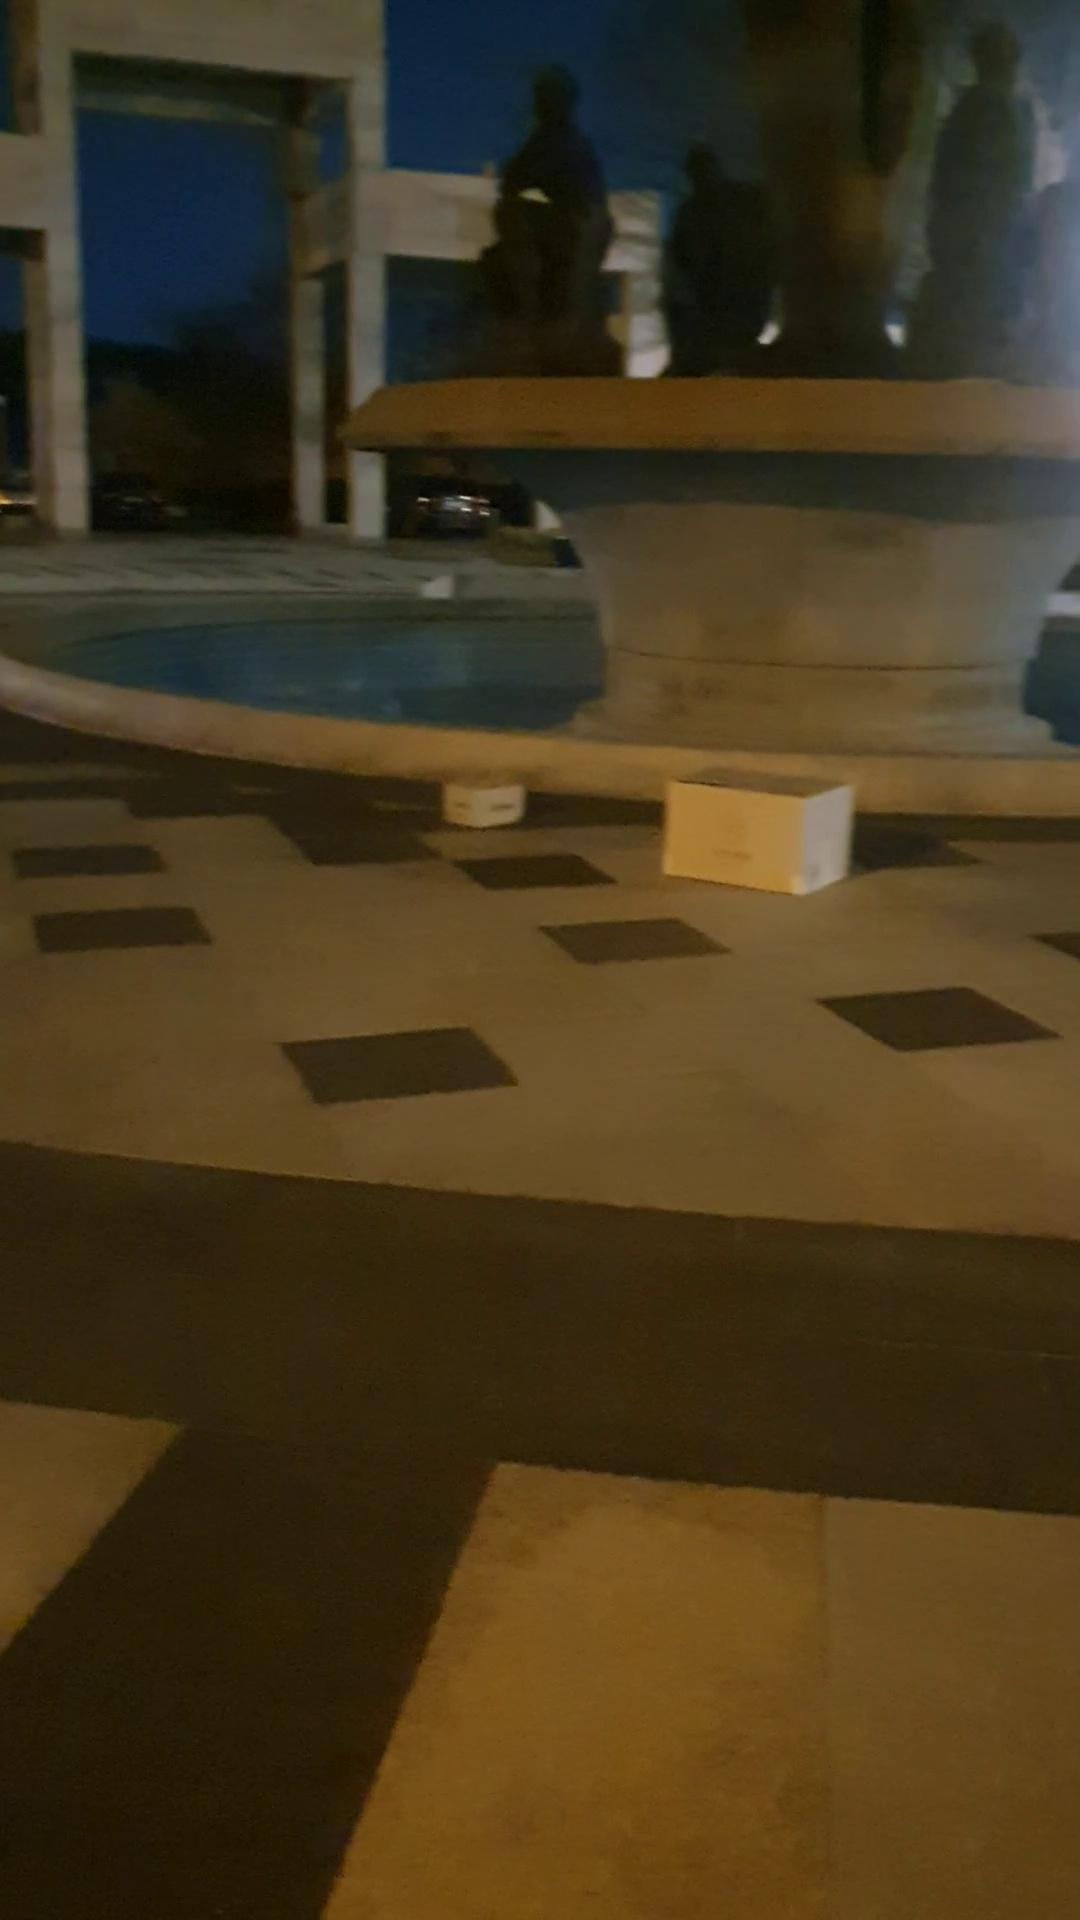Box: (651, 753, 857, 903), (421, 764, 543, 840)
